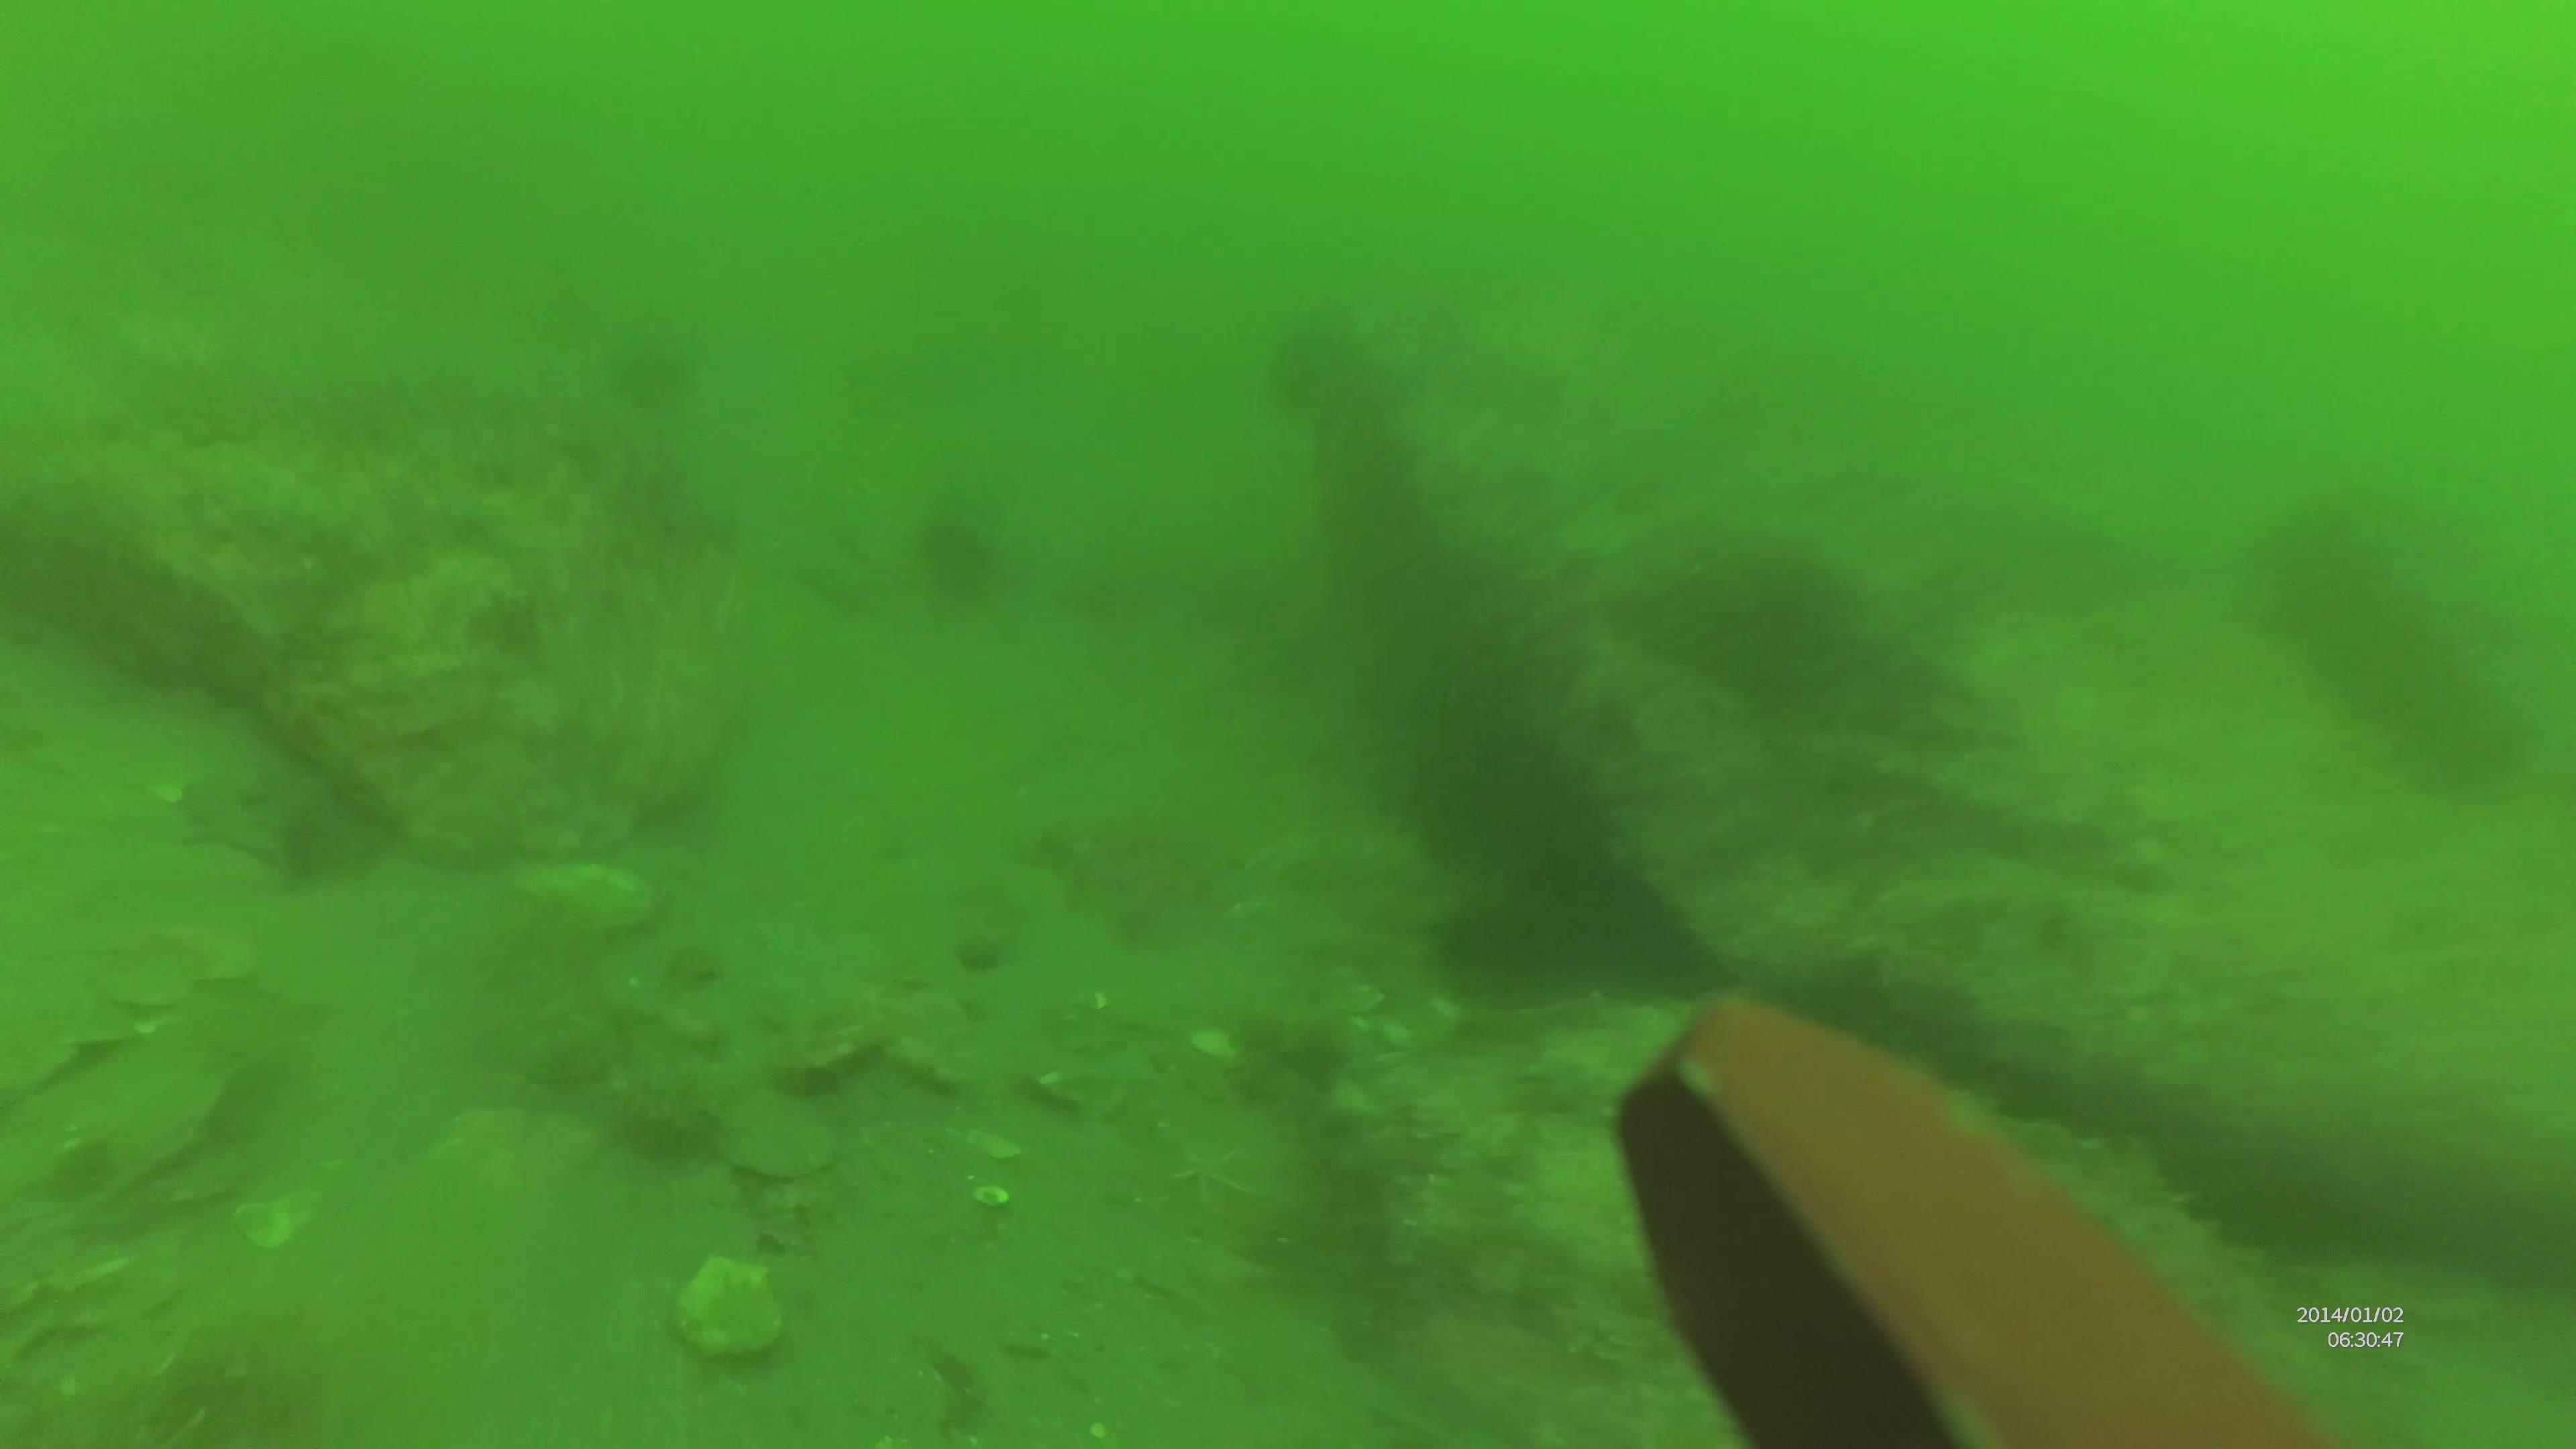scallop: (669, 1260, 786, 1362)
starfish: (1173, 1141, 1256, 1214)
